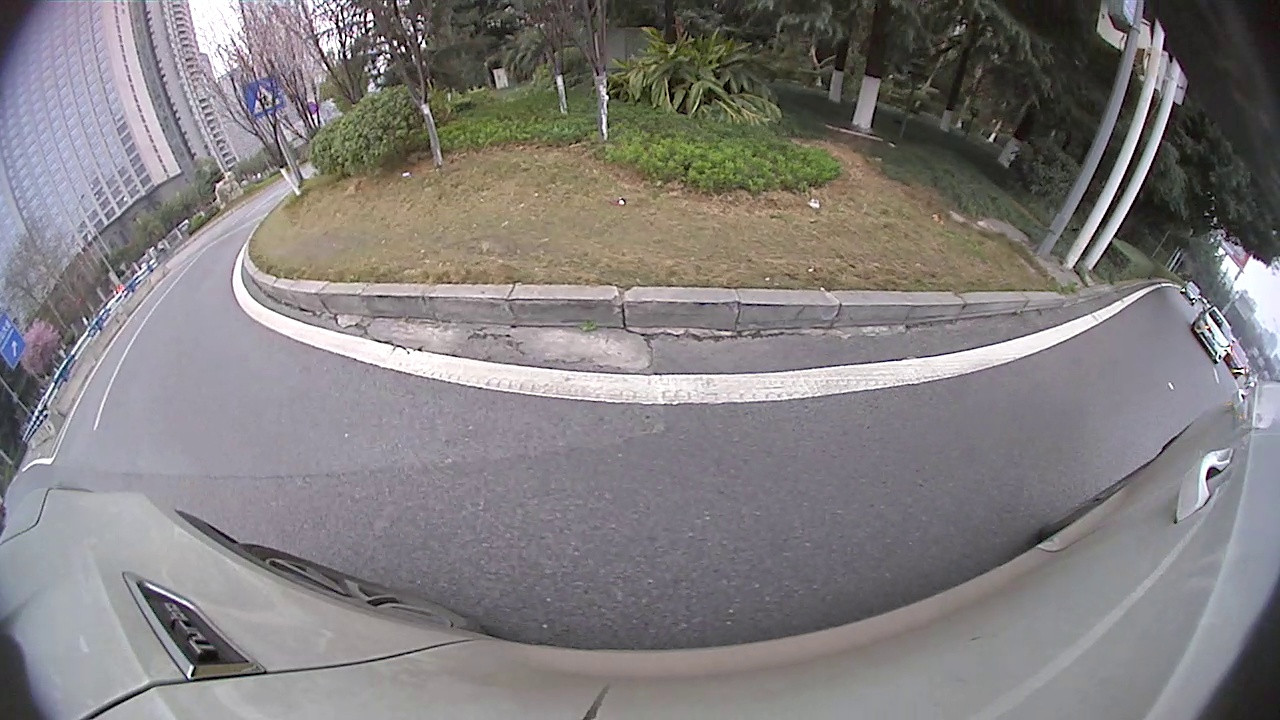car: (1190, 306, 1235, 364)
